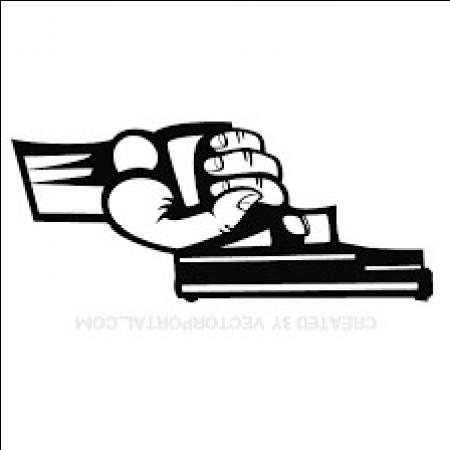Pistol: (163, 110, 438, 308)
